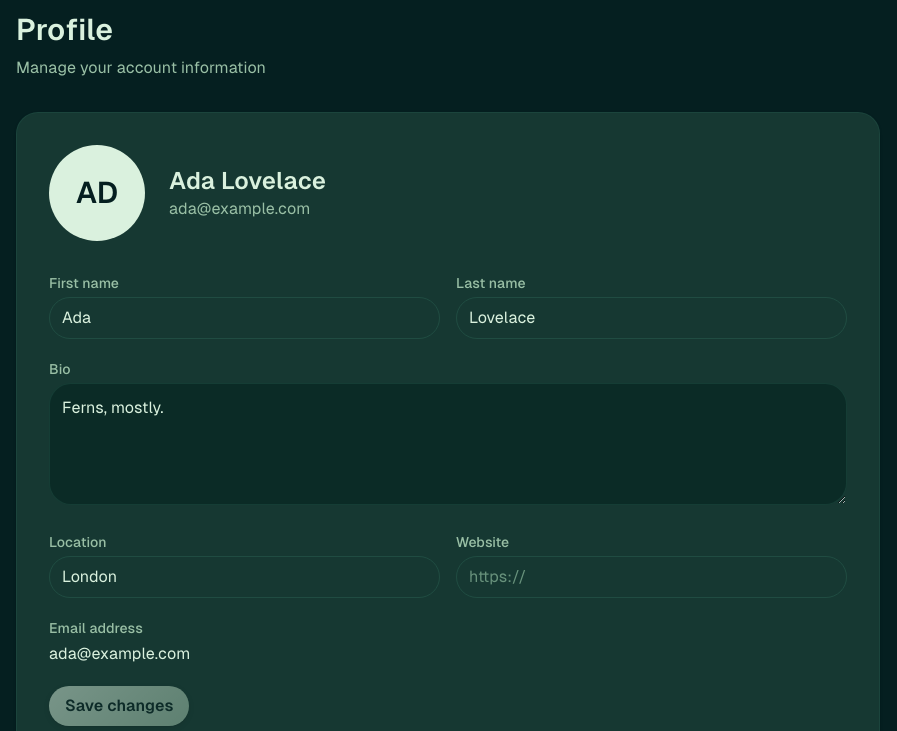
Test: ProfilePage (web dead-code audit M3) › retries the stats without losing unsaved form edits (todo 439)
The width and height of the screenshot is (897, 731).
Type ", UK" into the field labelled "Location".
click(244, 577); type(", UK")  # box [49, 556, 440, 598]
(page scrolled)
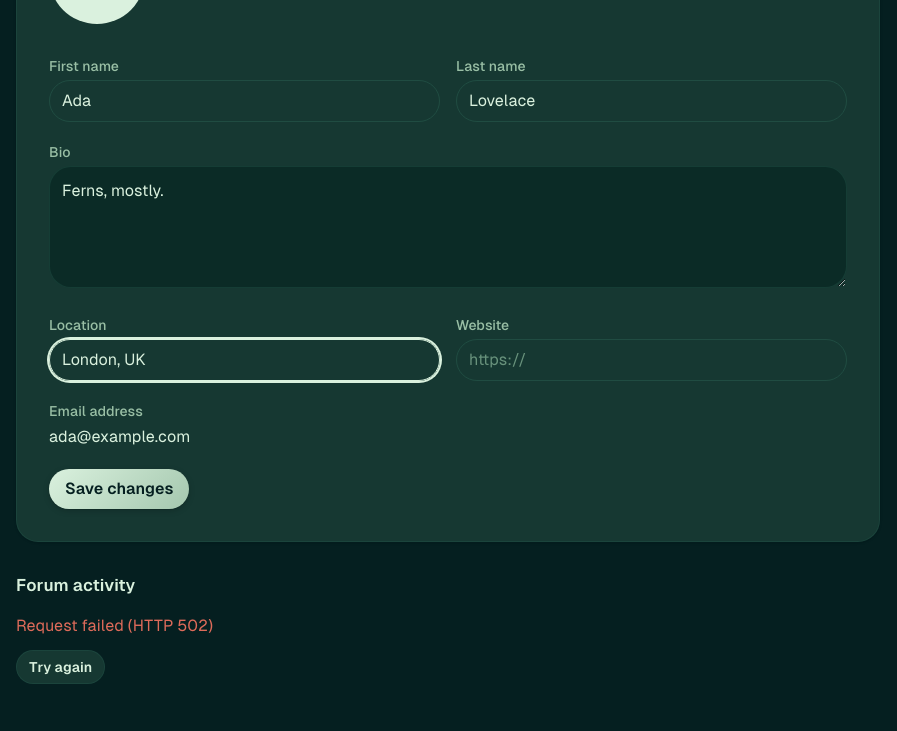
Check: the message reads "Request failed (HTTP 502)", box [16, 616, 213, 635]
Click the button "Try again".
click(61, 667)  # box [16, 650, 105, 684]
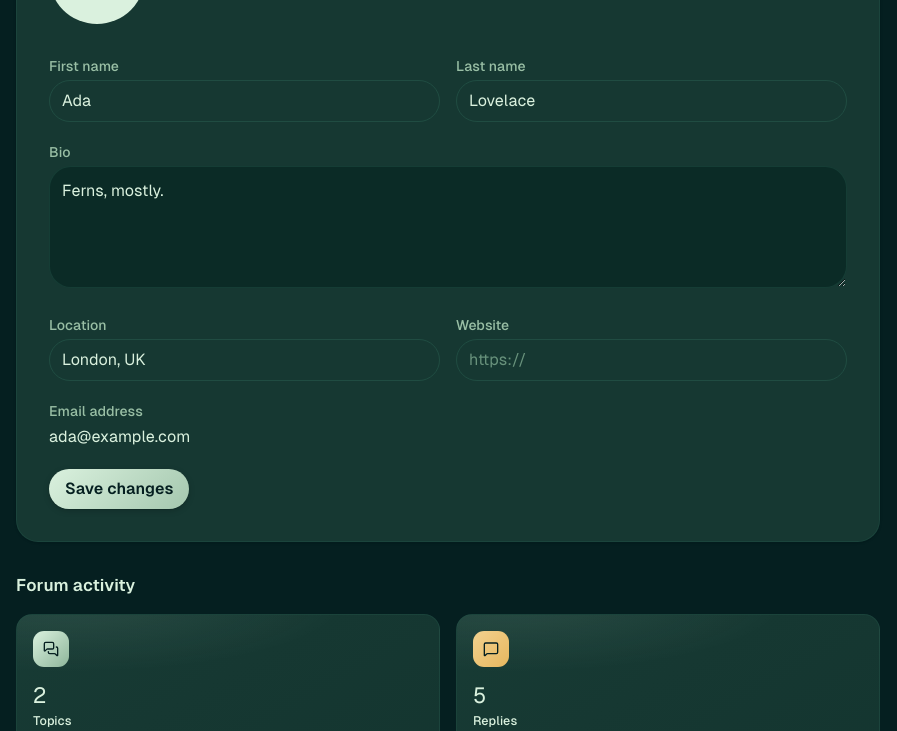
Check: the field labelled "Location" holds "London, UK", box [49, 339, 440, 381]
Check: the text "Topics" is shown, box [33, 713, 72, 728]
